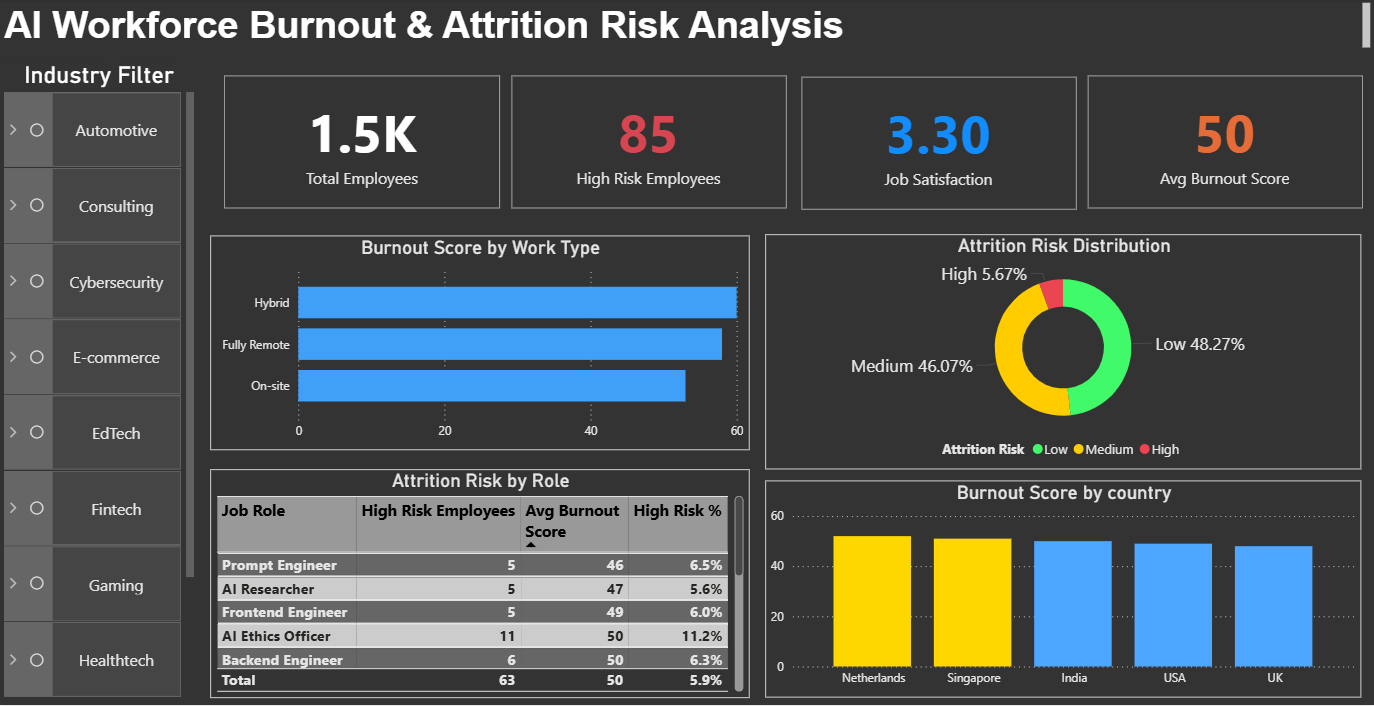

Layout of this report page (visuals, bound fields, positions):
{"tool":"powerbi","page":{"name":"Page 1","canvas":[1400,720],"ordinal":0},"visuals":[{"type":"textbox","box":[0,0,1400,62.6],"z":0},{"type":"cardVisual","fields":{"Data":["Count(Ai_Burnout&Attrition_Dataset.employee_id)"]},"box":[228.5,78.8,281.1,135.3],"z":1000},{"type":"cardVisual","fields":{"Data":["Median(Ai_Burnout&Attrition_Dataset.job_satisfaction_1_5)"]},"box":[816.9,80.1,279.7,135.3],"z":2000},{"type":"cardVisual","fields":{"Data":["Median(Ai_Burnout&Attrition_Dataset.burnout_score)"]},"box":[1107.1,78.8,279.7,135.3],"z":3000},{"type":"cardVisual","fields":{"Data":["Ai_Burnout&Attrition_Dataset.High Risk Employees"]},"box":[521.4,78.8,279.7,135.3],"z":4000},{"type":"donutChart","title":"Attrition Risk Distribution","fields":{"Category":["Ai_Burnout&Attrition_Dataset.attrition_risk"],"Y":["CountNonNull(Ai_Burnout&Attrition_Dataset.attrition_risk)"]},"box":[780.1,240.3,606.8,239],"z":5000},{"type":"tableEx","title":"Attrition Risk by Role","fields":{"Values":["Ai_Burnout&Attrition_Dataset.job_role","Ai_Burnout&Attrition_Dataset.High Risk Employees"]},"box":[215.4,479.4,549,232.5],"z":6000},{"type":"barChart","title":"Remote Work Type — Burnout & High Attrition","fields":{"Category":["Ai_Burnout&Attrition_Dataset.remote_work_type"],"Y":["Count(Ai_Burnout&Attrition_Dataset.burnout_score)"]},"box":[215.4,241.7,549,218],"z":7000},{"type":"columnChart","fields":{"Y":["Median(Ai_Burnout&Attrition_Dataset.burnout_score)"],"Category":["Ai_Burnout&Attrition_Dataset.country"]},"box":[780.1,491.2,606.8,220.6],"z":8000},{"type":"listSlicer","fields":{"Values":["Ai_Burnout&Attrition_Dataset.industry","Ai_Burnout&Attrition_Dataset.remote_work_type","Ai_Burnout&Attrition_Dataset.country"]},"box":[0,63,203.6,656.7],"z":9000}]}

Visuals, with their boxes in screenshot pixels (x1, y1, x2, y2), scaled from the page's 1400x720 canvas onto the 1374x706 screenshot:
textbox: crop(0, 0, 1373, 61)
cardVisual - Count(Ai_Burnout&Attrition_Dataset.employee_id): crop(224, 77, 500, 210)
cardVisual - Median(Ai_Burnout&Attrition_Dataset.job_satisfaction_1_5): crop(802, 79, 1076, 211)
cardVisual - Median(Ai_Burnout&Attrition_Dataset.burnout_score): crop(1087, 77, 1361, 210)
cardVisual - Ai_Burnout&Attrition_Dataset.High Risk Employees: crop(512, 77, 786, 210)
"Attrition Risk Distribution" donutChart: crop(766, 236, 1361, 470)
"Attrition Risk by Role" tableEx: crop(211, 470, 750, 698)
"Remote Work Type — Burnout & High Attrition" barChart: crop(211, 237, 750, 451)
columnChart - Median(Ai_Burnout&Attrition_Dataset.burnout_score) x Ai_Burnout&Attrition_Dataset.country: crop(766, 482, 1361, 698)
listSlicer - Ai_Burnout&Attrition_Dataset.industry x Ai_Burnout&Attrition_Dataset.remote_work_type: crop(0, 62, 200, 705)
